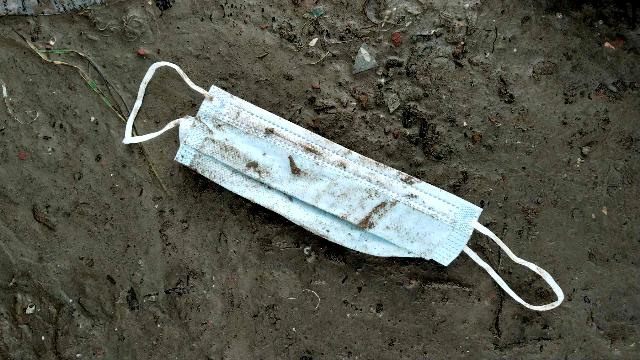mask: (101, 40, 597, 343)
